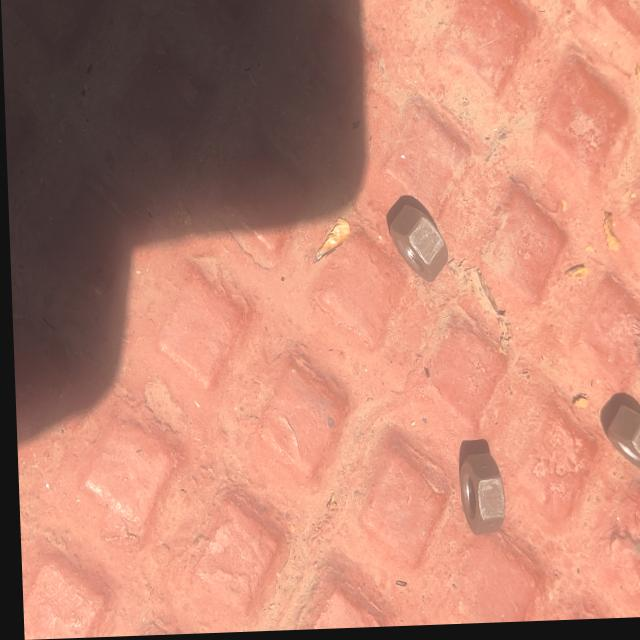disinfected nut: (387, 202, 446, 285), (454, 456, 500, 540), (603, 409, 640, 475)
